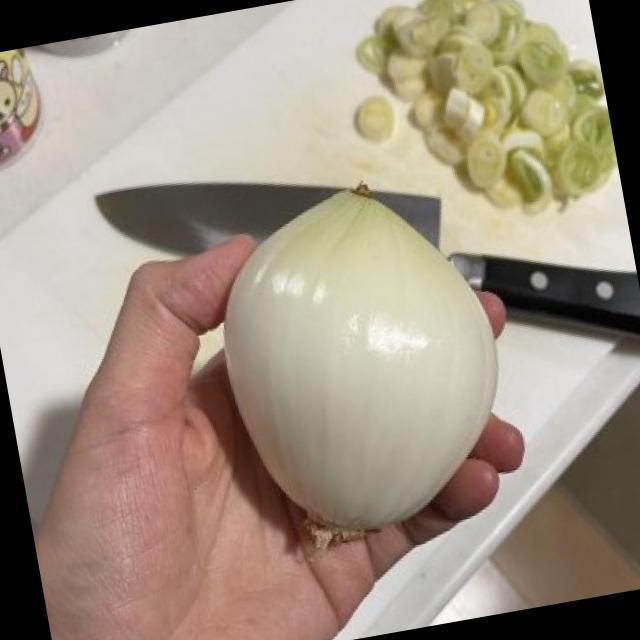Onion: (220, 194, 500, 539)
